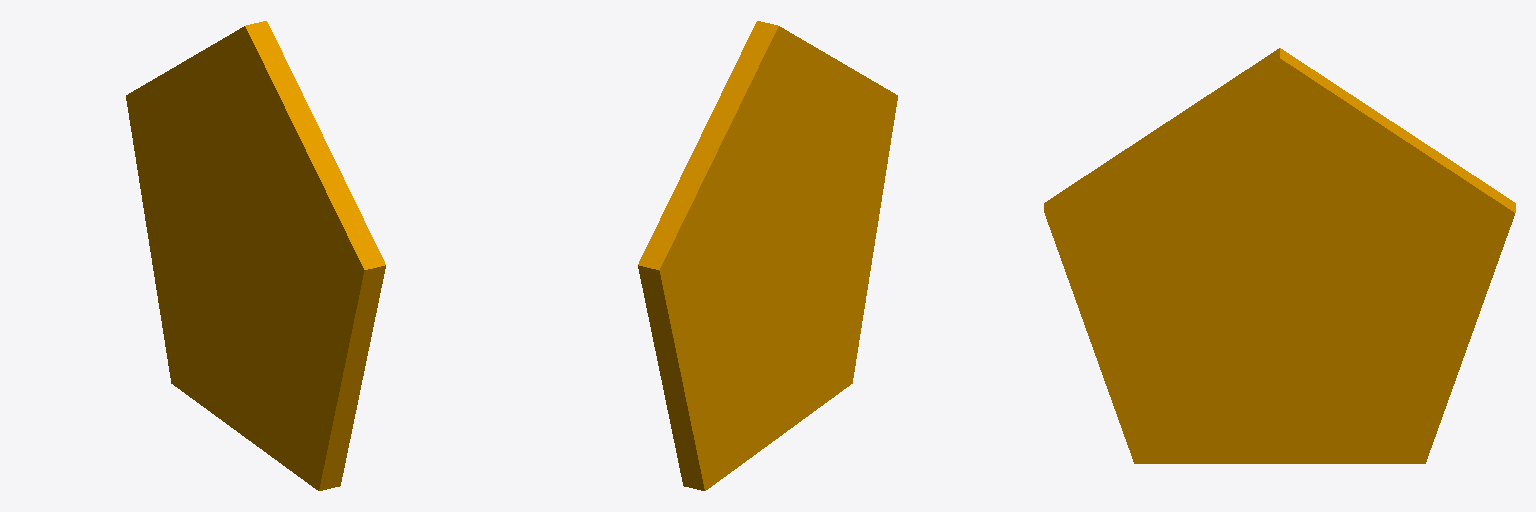
robot.urdf — pentagon:
<?xml version="1.0" ?>
<robot name="pentagon">
  <link name="base_link">
    <visual>
      <geometry>
        <mesh filename="pentagon.obj" scale="0.0773900966300059 0.0773900966300059 0.0773900966300059"/>
      </geometry>
      <origin rpy="1.5707963267948966 0.0 0.0" xyz="0.0 0.0 -0.00739009663000588"/>
    </visual>
    <collision>
      <geometry>
        <box size="0.00773900966300059 0.14720471139335745 0.14"/>
      </geometry>
    </collision>
    <inertial>
      <mass value="1.0"/>
      <inertia ixx="0.003439102254700139" ixy="0.0" ixz="0.0" iyy="0.001638324355880335" iyz="0.0" izz="0.0018107599439138066"/>
    </inertial>
  </link>
  <!--
    <link name="test">
        <visual>
            <geometry>
                <box size="${x} ${y} ${z}"/>
            </geometry>
            <material name="Miau">
                <color rgba="1.0 0.0 0.0 1"/>
            </material>
        </visual>
    </link>
    <joint name="base_link_to_test" type="fixed">
        <parent link="base_link"/>
        <child link="test"/>
    </joint>
    -->
</robot>

--- Facts derived from the render (not from the file) ---
3 views of the same robot in one strip: view 1: azimuth 30°, elevation 25°; view 2: azimuth 150°, elevation 25°; view 3: azimuth 270°, elevation 25° (orthographic).
Model pentagon with 1 links and 0 joints (none), rooted at base_link, posed all joints at 0.
Links seen in each view (by area): view 1: base_link; view 2: base_link; view 3: base_link.
Link boxes in pixels (x1,y1,x2,y2): base_link: (126,21,385,490); base_link: (638,21,897,490); base_link: (1044,48,1515,463).
Bounding box of the posed robot: 0.0077 × 0.1472 × 0.14 m (x, y, z).
1 mesh visuals loaded from 1 distinct referenced files (1 OBJ).